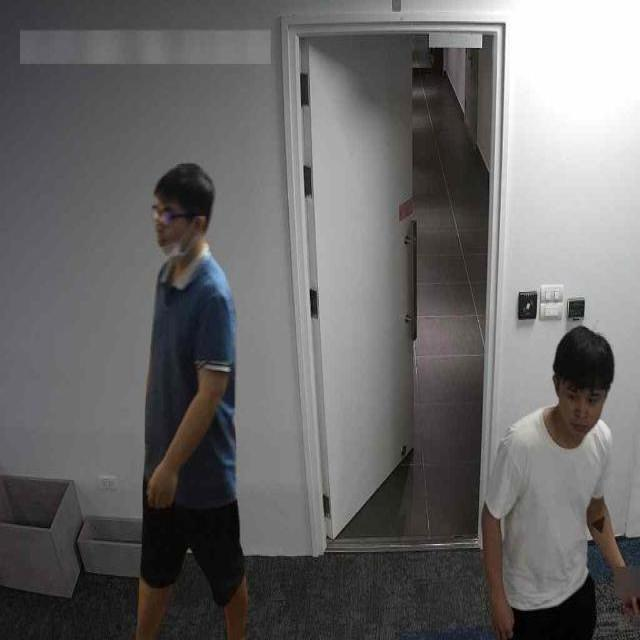bare_hand: (134, 451, 201, 523), (471, 580, 535, 636)
